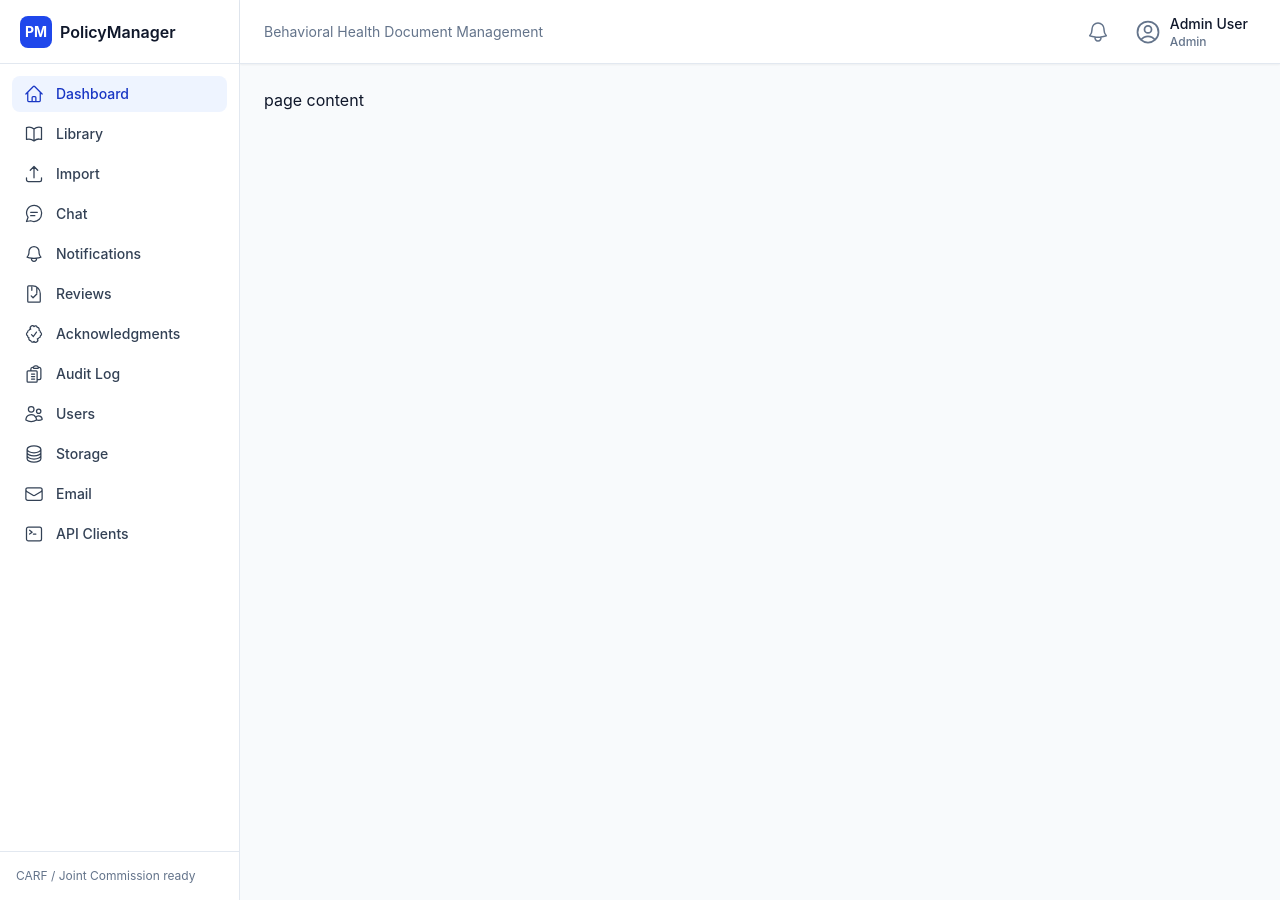
Test: AppShell user menu › closes the menu on Escape
Click the button "Admin User Admin". click: click(1191, 32)
box: [1126, 8, 1256, 56]
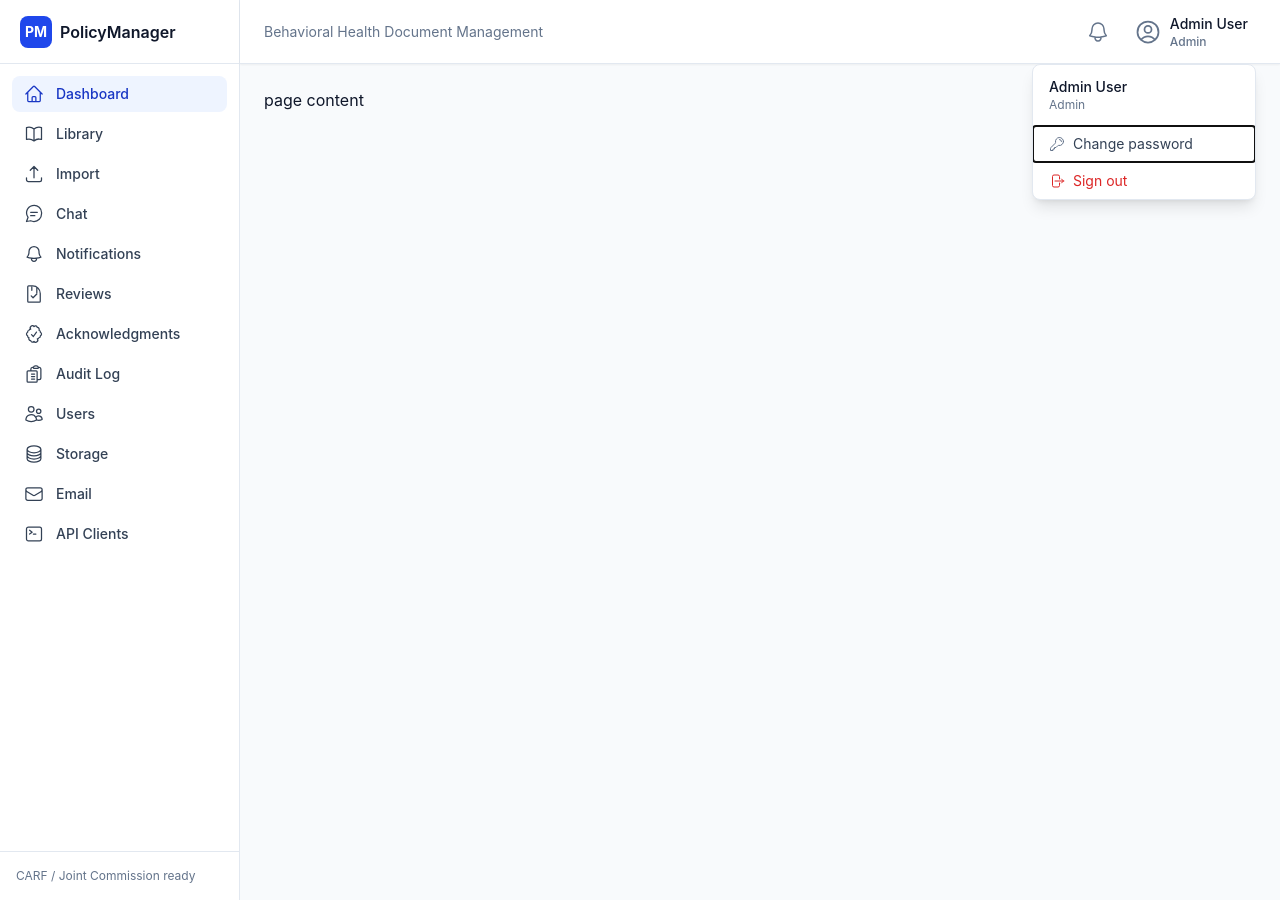
Expected: the menu named "User menu" is shown, [1032, 64, 1256, 200]
Press Escape
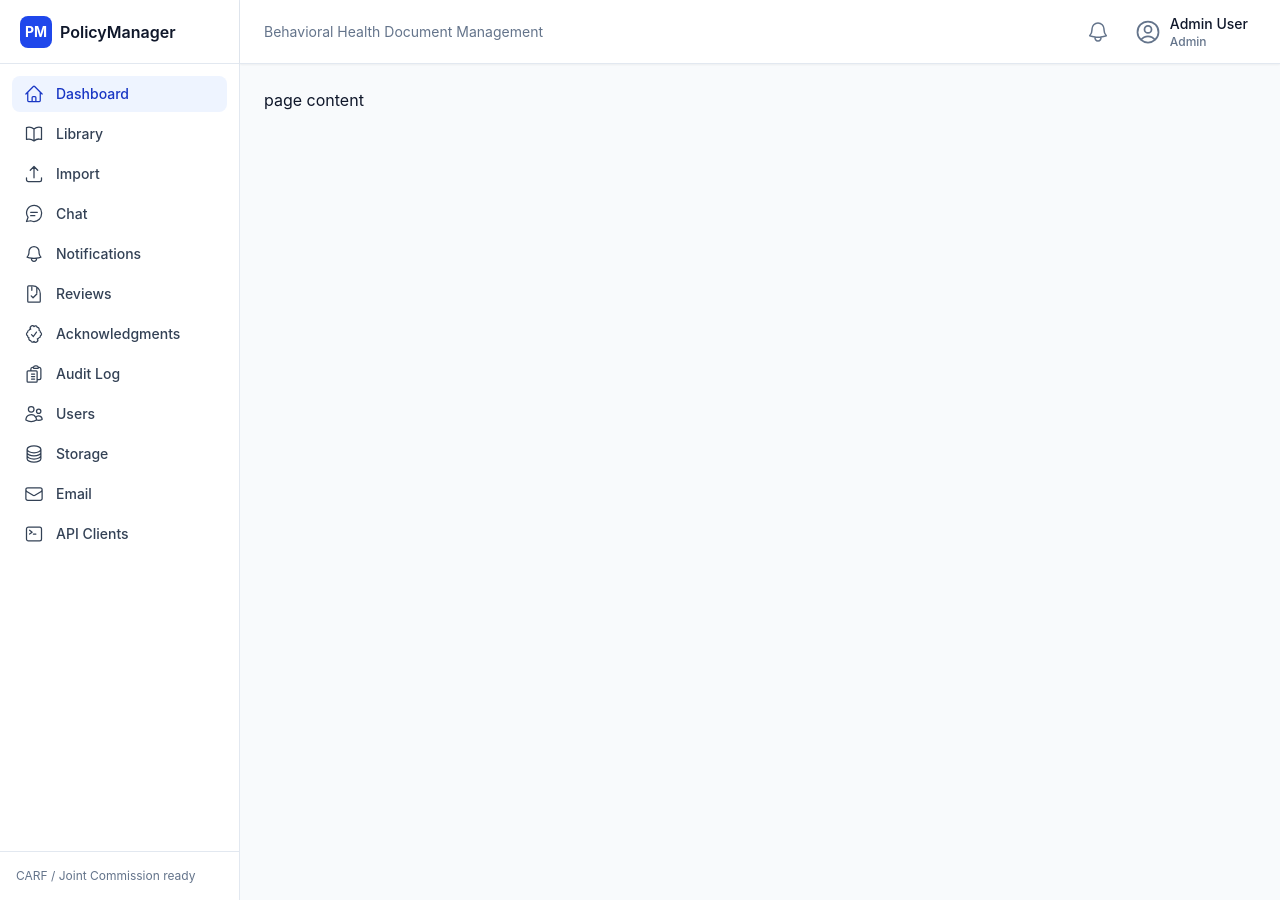
Expected: the menu "User menu" is gone
